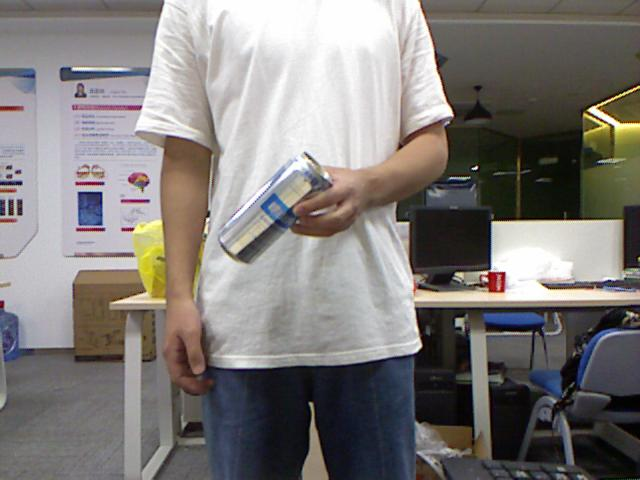metal: (220, 152, 331, 263)
